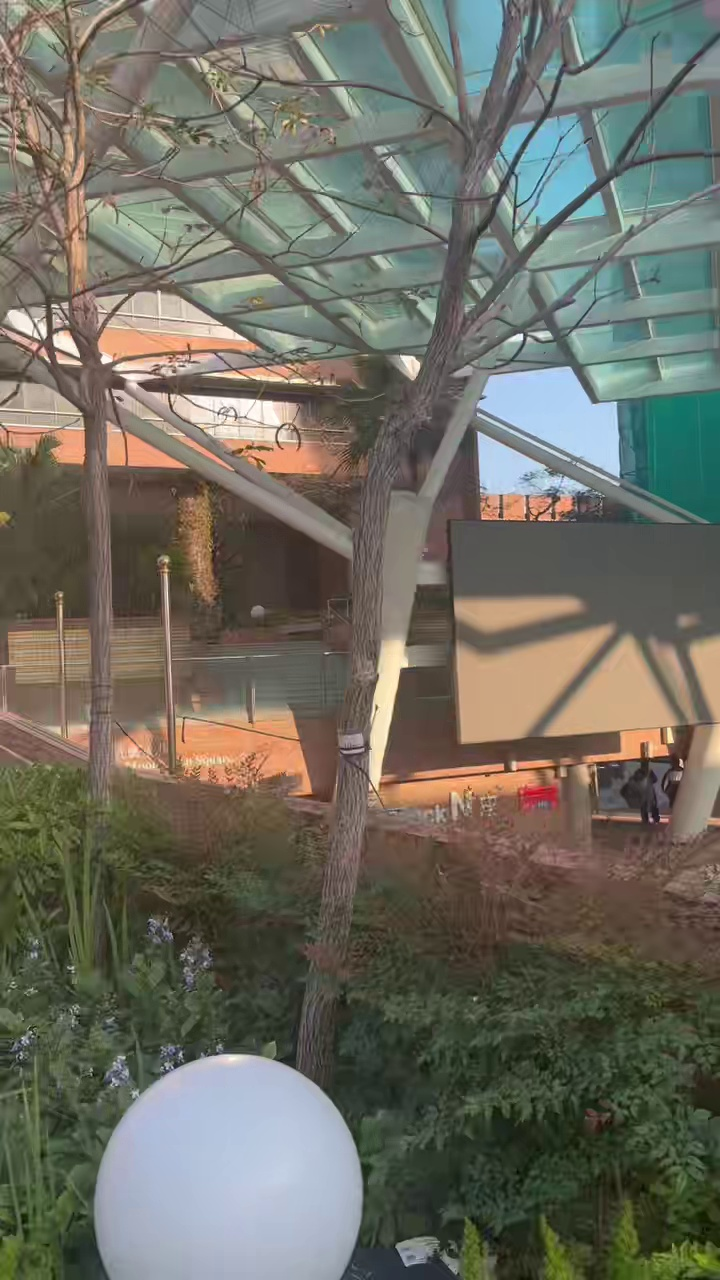Tabebuia chrysantha: (297, 0, 719, 1086)
